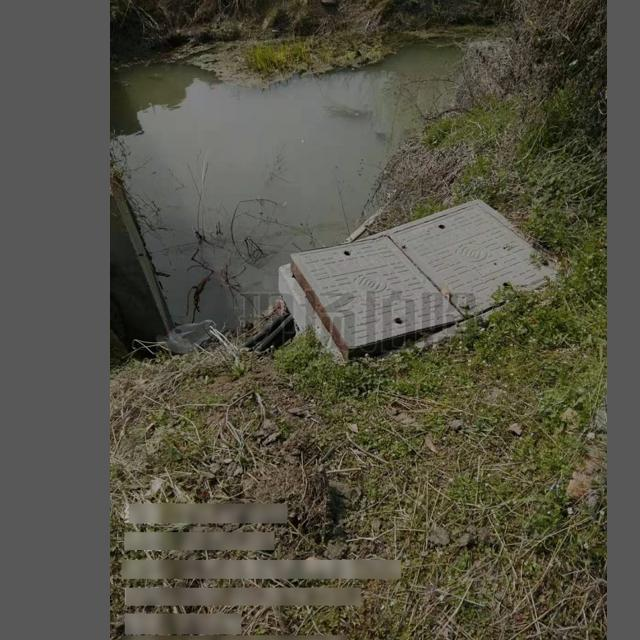uncovered: (277, 197, 565, 361)
